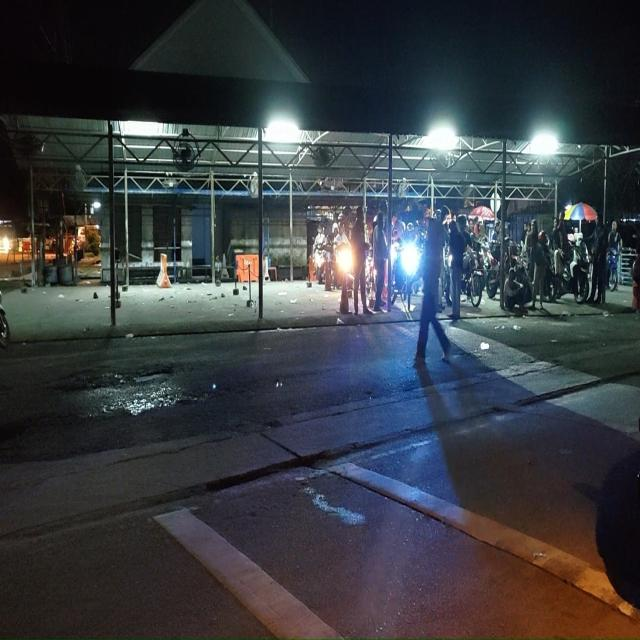Golongan II: (550, 234, 589, 304), (449, 250, 484, 308), (391, 242, 421, 309), (482, 241, 500, 299), (314, 244, 332, 284), (607, 246, 619, 291)
